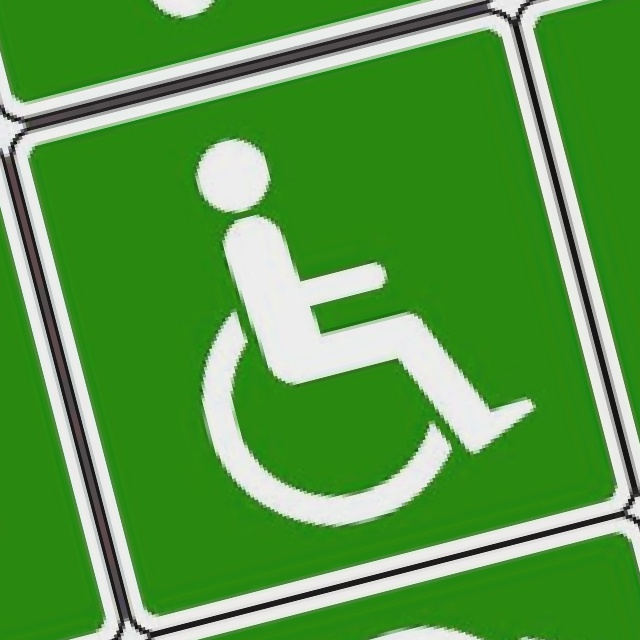ISA: (136, 78, 554, 560), (265, 577, 640, 640), (598, 0, 640, 441), (3, 0, 420, 40)
